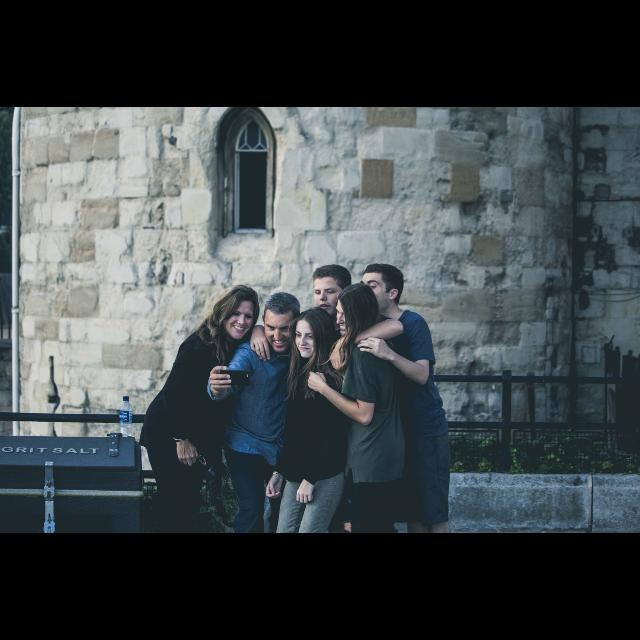head: (262, 294, 302, 354), (360, 262, 406, 314), (336, 284, 380, 338), (313, 265, 353, 317), (220, 287, 258, 341), (294, 310, 330, 360)
